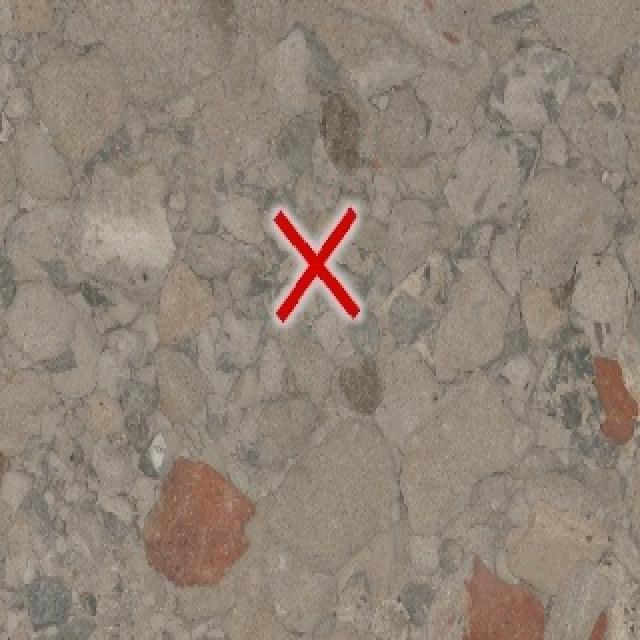x_marker: (273, 207, 359, 321)
